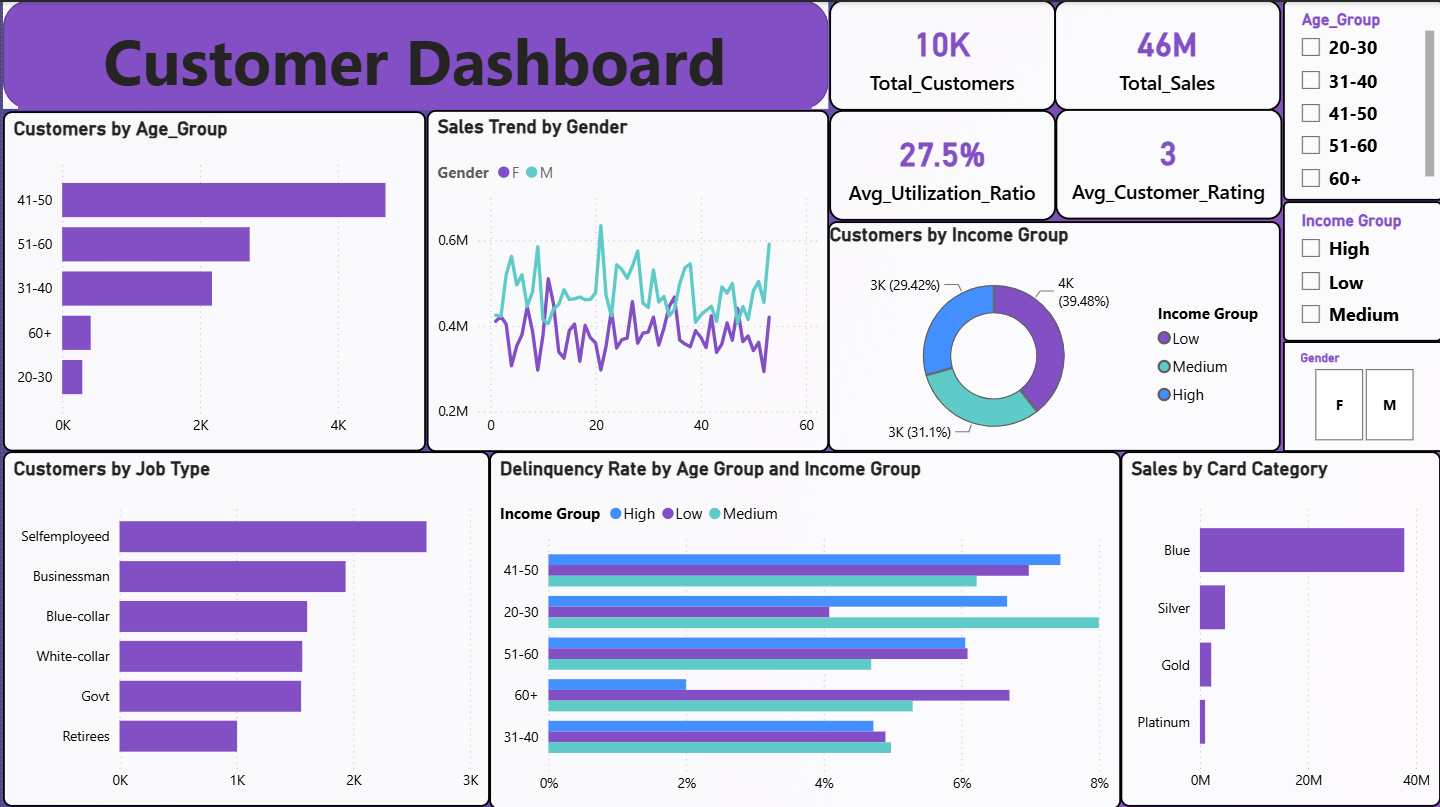

The dashboard page shown, as its layout file describes it:
{"tool":"powerbi","page":{"name":"Customer Report","canvas":[1280,720],"ordinal":0},"visuals":[{"type":"slicer","fields":{"Values":["Customer.Income Group"]},"box":[1137.6,178.4,141.3,124.9],"z":0},{"type":"slicer","fields":{"Values":["Customer.Age_Group"]},"box":[1137.6,0,142.7,178.4],"z":1000},{"type":"slicer","fields":{"Values":["Customer.Gender"]},"box":[1137.6,303.3,142.7,98.8],"z":2000},{"type":"shape","box":[0,0,733.9,97],"z":3000},{"type":"textbox","box":[13.7,9.6,705.3,87.8],"z":4000},{"type":"card","fields":{"Values":["Customer.Total_Customers"]},"box":[734.1,0,201.7,98.8],"z":5000},{"type":"card","fields":{"Values":["Customer.Avg_Income"]},"box":[935.9,0,201.7,98.8],"z":6000},{"type":"card","fields":{"Values":["Customer.Delinquency_Rate"]},"box":[935.9,97.4,201.7,98.8],"z":7000},{"type":"card","fields":{"Values":["Customer.Avg_Utilization_Ratio"]},"box":[734.1,97.4,201.7,98.8],"z":8000},{"type":"clusteredBarChart","title":"Customers by Age_Group","fields":{"Category":["Customer.Age_Group"],"Y":["Customer.Total_Customers"]},"box":[0,98.3,393.1,303.5],"z":9000},{"type":"donutChart","title":"Customers by Income Group","fields":{"Category":["Customer.Income Group"],"Y":["Customer.Total_Customers"]},"box":[393.1,98.3,340.8,303.5],"z":10000},{"type":"clusteredBarChart","title":"Revenue by Card_Category","fields":{"Y":["Customer.Total_Revenue"],"Category":["Transaction.Card_Category"]},"box":[733.9,195.3,403.4,205.8],"z":11000},{"type":"clusteredBarChart","fields":{"Y":["Customer.Delinquency_Rate"],"Category":["Customer.Age_Group"],"Series":["Customer.Income Group"]},"box":[658.7,402.1,620.2,318.4],"z":12000},{"type":"clusteredBarChart","fields":{"Y":["Customer.Avg_Satisfaction_Score"],"Category":["Customer.Marital_Status"],"Series":["Customer.Education_Level"]},"box":[0,401.8,658.1,318.5],"z":13000}]}

Visuals, with their boxes in screenshot pixels (x1, y1, x2, y2), scaled from the page's 1280x720 canvas onto the 1440x807 screenshot:
slicer - Customer.Income Group: x1=1280 y1=200 x2=1439 y2=340
slicer - Customer.Age_Group: x1=1280 y1=0 x2=1439 y2=200
slicer - Customer.Gender: x1=1280 y1=340 x2=1439 y2=451
shape: x1=0 y1=0 x2=826 y2=109
textbox: x1=15 y1=11 x2=809 y2=109
card - Customer.Total_Customers: x1=826 y1=0 x2=1053 y2=111
card - Customer.Avg_Income: x1=1053 y1=0 x2=1280 y2=111
card - Customer.Delinquency_Rate: x1=1053 y1=109 x2=1280 y2=220
card - Customer.Avg_Utilization_Ratio: x1=826 y1=109 x2=1053 y2=220
"Customers by Age_Group" clusteredBarChart: x1=0 y1=110 x2=442 y2=450
"Customers by Income Group" donutChart: x1=442 y1=110 x2=826 y2=450
"Revenue by Card_Category" clusteredBarChart: x1=826 y1=219 x2=1279 y2=450
clusteredBarChart - Customer.Delinquency_Rate x Customer.Age_Group: x1=741 y1=451 x2=1439 y2=806
clusteredBarChart - Customer.Avg_Satisfaction_Score x Customer.Marital_Status: x1=0 y1=450 x2=740 y2=806
